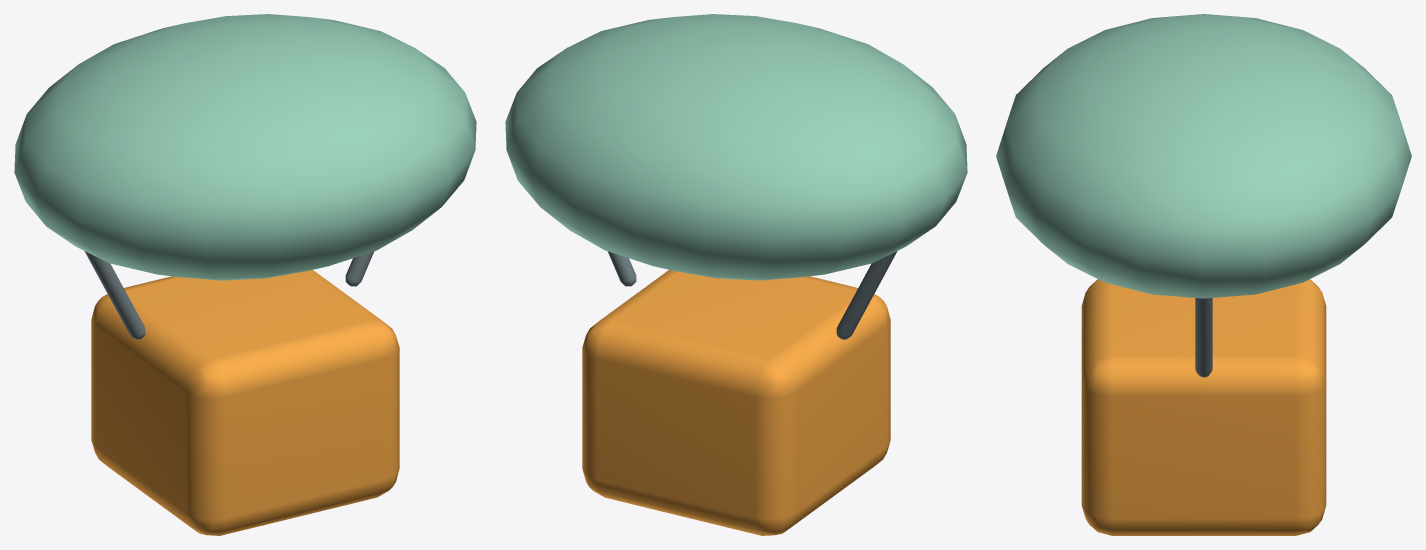
Rendered from bonus_vehicle.glb.
3 renders of one model, left to right at view 1: azimuth 30°, elevation 25°; view 2: azimuth 150°, elevation 25°; view 3: azimuth 270°, elevation 25°, orthographic.
Parts seen in each view (by area): view 1: Parachute canopy, Airdrop crate, Parachute line, Parachute line.001; view 2: Parachute canopy, Airdrop crate, Parachute line, Parachute line.001; view 3: Parachute canopy, Airdrop crate, Parachute line.001.
Part boxes in pixels (x1=…): Parachute canopy: x1=14, y1=14, x2=476, y2=280; Airdrop crate: x1=91, y1=270, x2=399, y2=535; Parachute line: x1=84, y1=251, x2=145, y2=339; Parachute line.001: x1=345, y1=251, x2=374, y2=286; Parachute canopy: x1=505, y1=14, x2=967, y2=280; Airdrop crate: x1=582, y1=270, x2=890, y2=535; Parachute line: x1=836, y1=251, x2=897, y2=339; Parachute line.001: x1=607, y1=251, x2=636, y2=286; Parachute canopy: x1=996, y1=14, x2=1411, y2=298; Airdrop crate: x1=1081, y1=279, x2=1326, y2=535; Parachute line.001: x1=1195, y1=298, x2=1212, y2=377.
Bounding box in the file's own units: 0.8 × 0.79 × 0.68.
